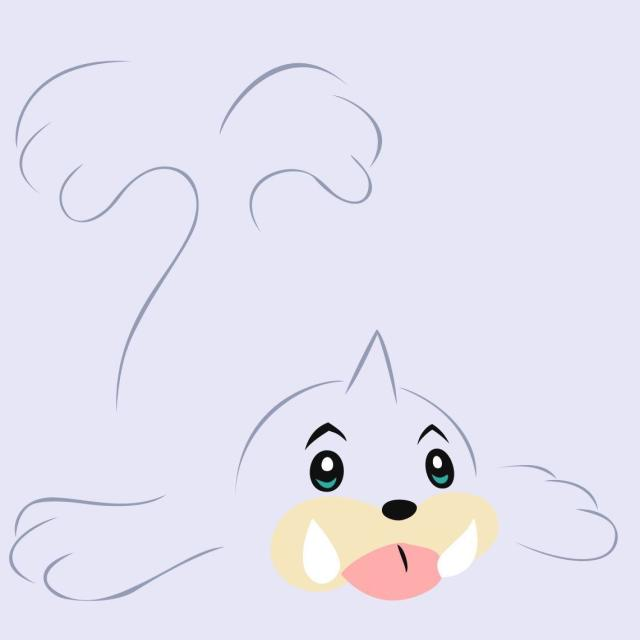Seel: (15, 55, 613, 606)
